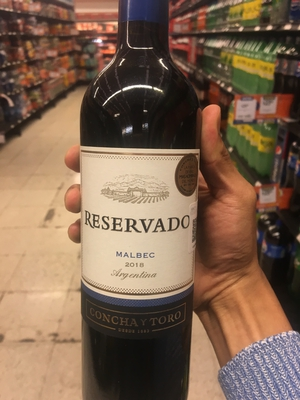reservado malbec: (78, 7, 200, 398)
